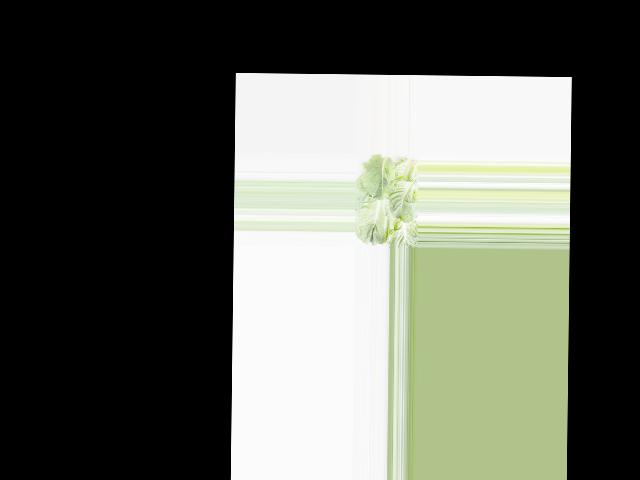lettuce: (356, 156, 419, 245)
